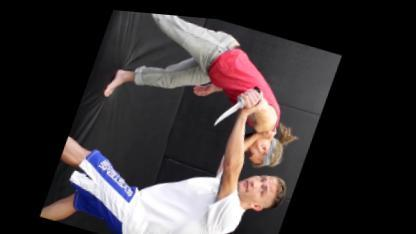knife: (211, 68, 267, 133)
